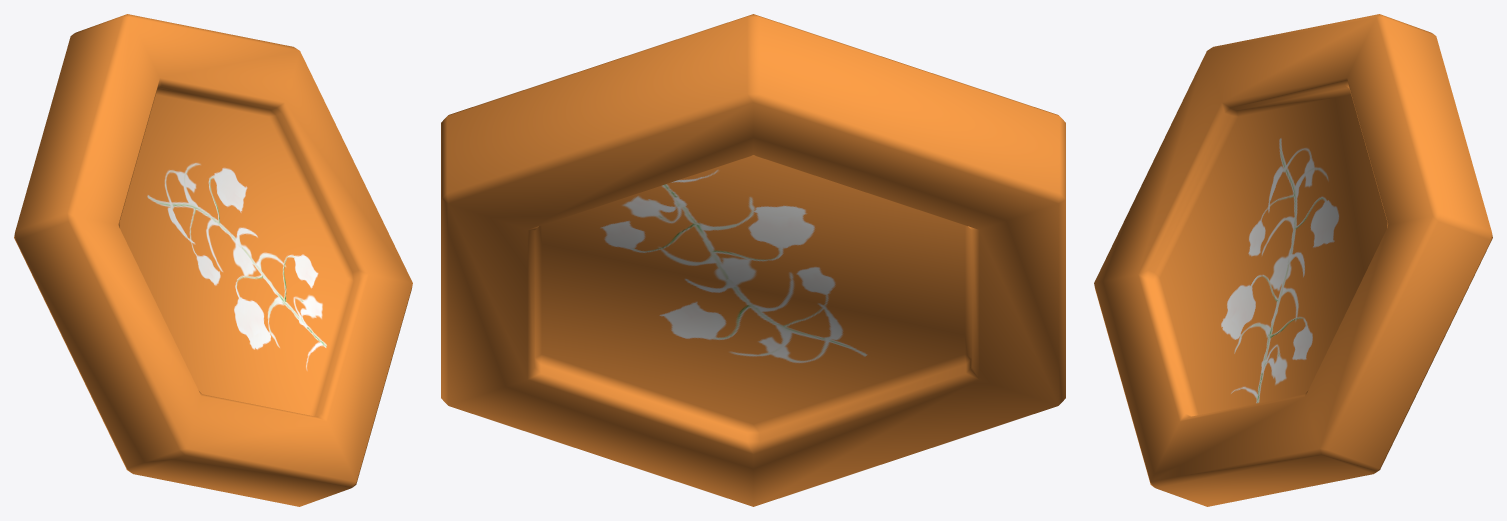
The model's file is sandersonia.glb.
3 views of the same model, side by side, from view 1: azimuth 30°, elevation 25°; view 2: azimuth 150°, elevation 25°; view 3: azimuth 270°, elevation 25° (orthographic). The views are drawn at different scales.
Parts seen in each view (by area): view 1: Cylinder; view 2: Cylinder; view 3: Cylinder.
Part boxes in pixels (x1,y1,x2,y2): Cylinder: (14, 14, 412, 506); Cylinder: (441, 14, 1065, 506); Cylinder: (1094, 14, 1492, 506).
Size of the model in its own units: 1.85 by 1.84 by 1.49.
1 material, 1 textured.
